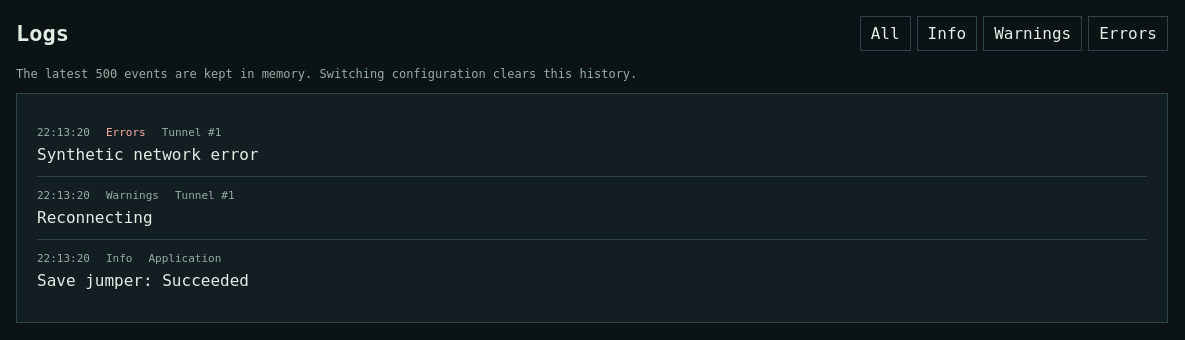
Test: the log page exposes info, warning and error filters with timestamps
Check: the text "Save jumper: Succeeded" is shown, box [37,271,249,290]
Click the button "Errors". click: (1128, 34)
box: [1088,16,1168,51]
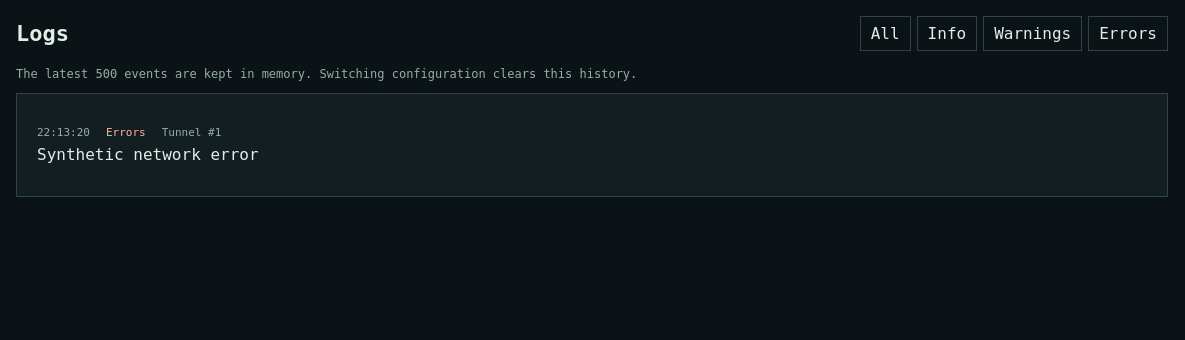
Check: the text "Synthetic network error" is shown, box [37,145,259,164]
Check: the text "Save jumper: Succeeded" is gone
Click the button "Warnings". click: (1033, 34)
box: [983,16,1082,51]
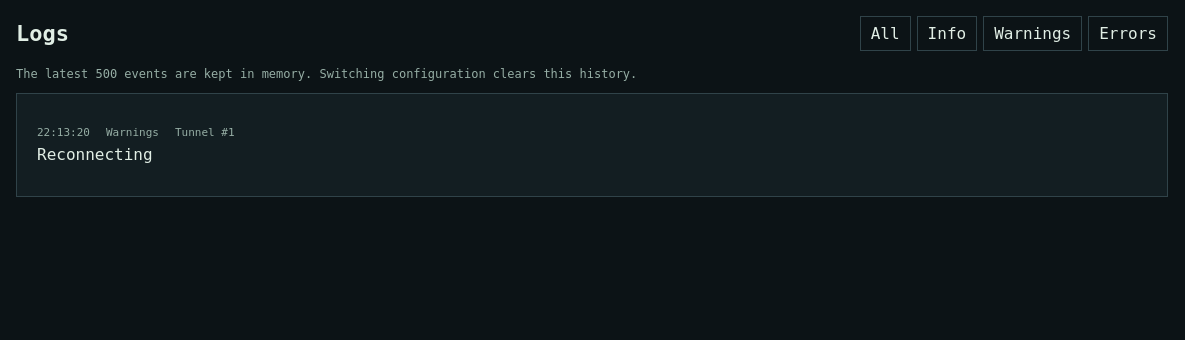
Check: the number of elements with class "journal-entry" is 1, box [37,126,235,164]
Check: the text "Synthetic network error" is gone
Click the button "Info". click: (947, 34)
box: [917,16,977,51]
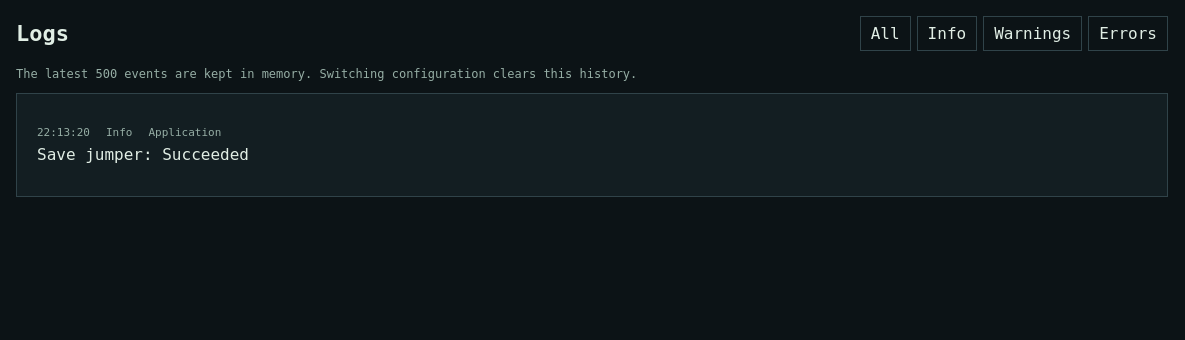
Check: the text "Save jumper: Succeeded" is shown, box [37,145,249,164]
